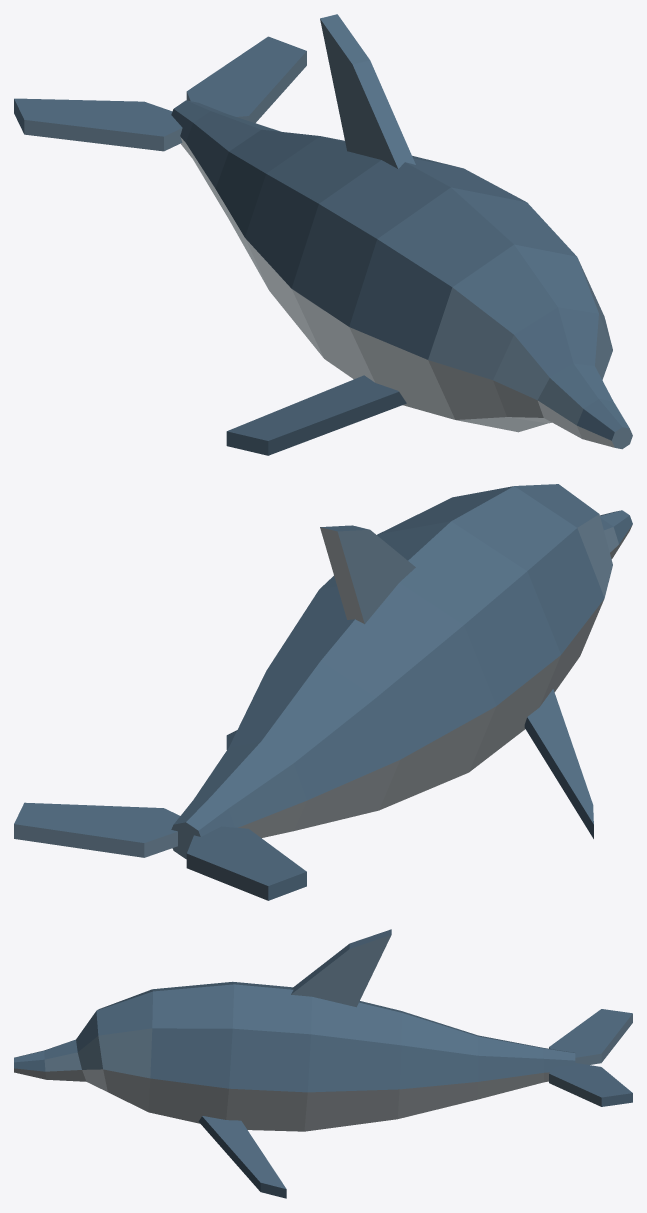
The model's file is Dolphin.glb.
The picture shows the model from 3 angles, top to bottom: view 1: azimuth 30°, elevation 25°; view 2: azimuth 150°, elevation 25°; view 3: azimuth 270°, elevation 25°; orthographic projection. The views are drawn at different scales.
Parts seen in each view (by area): view 1: Dolphin; view 2: Dolphin; view 3: Dolphin.
Boxes of the visible parts, <box> form: Dolphin: <box>14,14,632,455</box>; Dolphin: <box>14,484,632,900</box>; Dolphin: <box>14,929,632,1198</box>.
Bounding box in the file's own units: 1.04 × 0.88 × 2.36.
